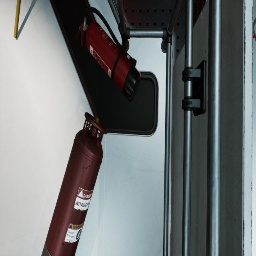FireExtinguisher ]: (76, 7, 141, 102)
NitrogenTank ,: (41, 112, 107, 256)
